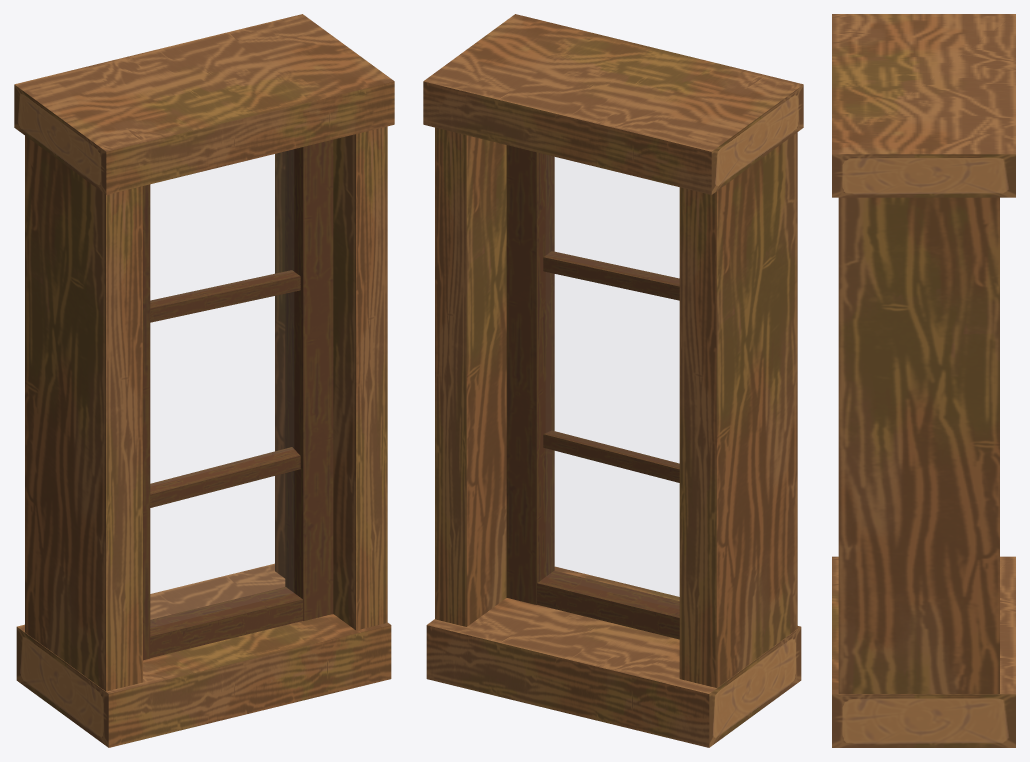
Rendered from Window_Thin_Flat1.obj.
3 views of the same model, side by side, from view 1: azimuth 30°, elevation 25°; view 2: azimuth 150°, elevation 25°; view 3: azimuth 270°, elevation 25° (orthographic).
Parts seen in each view (by area): view 1: Window_Thin_Flat1; view 2: Window_Thin_Flat1; view 3: Window_Thin_Flat1.
Boxes of the visible parts, box(x1,y1,x2,y2) form: Window_Thin_Flat1: box(14, 14, 394, 747); Window_Thin_Flat1: box(423, 14, 803, 747); Window_Thin_Flat1: box(832, 14, 1015, 747).
Bounding box in the file's own units: 0.788 × 1.56 × 0.4357.
